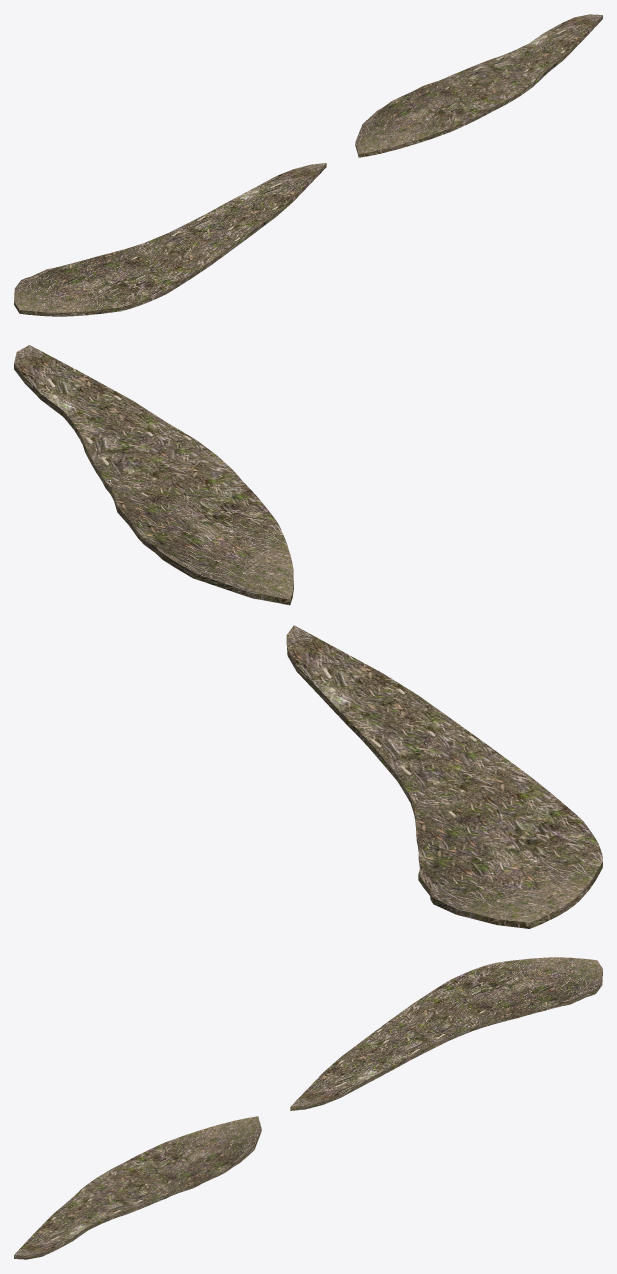
File: trunk_runtime.dae
The picture shows the model from 3 angles, top to bottom: view 1: azimuth 90°, elevation 25°; view 2: azimuth 150°, elevation 25°; view 3: azimuth 270°, elevation 25°; orthographic projection. The views are drawn at different scales.
Parts seen in each view (by area): view 1: trunk; view 2: trunk; view 3: trunk.
Part boxes in pixels (left/top/right/bottom): trunk: left=14, top=14, right=602, bottom=316; trunk: left=14, top=345, right=602, bottom=928; trunk: left=14, top=957, right=602, bottom=1259.
Bounding box in the file's own units: 600 × 500 × 3.81.
Materials: 1 (1 with a texture image).
